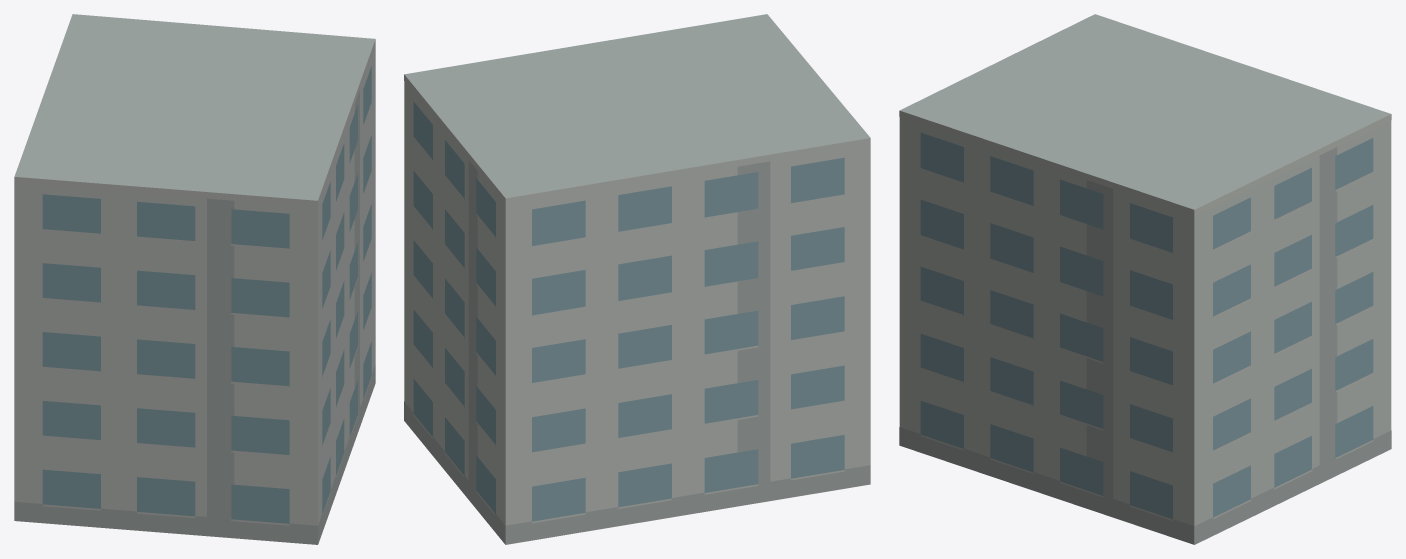
Rendered from survey-upis-32801068.glb.
3 views of the same model, side by side, from view 1: azimuth 30°, elevation 25°; view 2: azimuth 150°, elevation 25°; view 3: azimuth 270°, elevation 25° (orthographic). The views are drawn at different scales.
Parts seen in each view (by area): view 1: survey-upis-32801068.tmp; view 2: survey-upis-32801068.tmp; view 3: survey-upis-32801068.tmp.
Part boxes in pixels (x1,y1,x2,y2): survey-upis-32801068.tmp: (14,14,375,544); survey-upis-32801068.tmp: (404,14,870,544); survey-upis-32801068.tmp: (899,14,1391,544).
Bounding box in the file's own units: 15.85 × 12.64 × 16.82.
